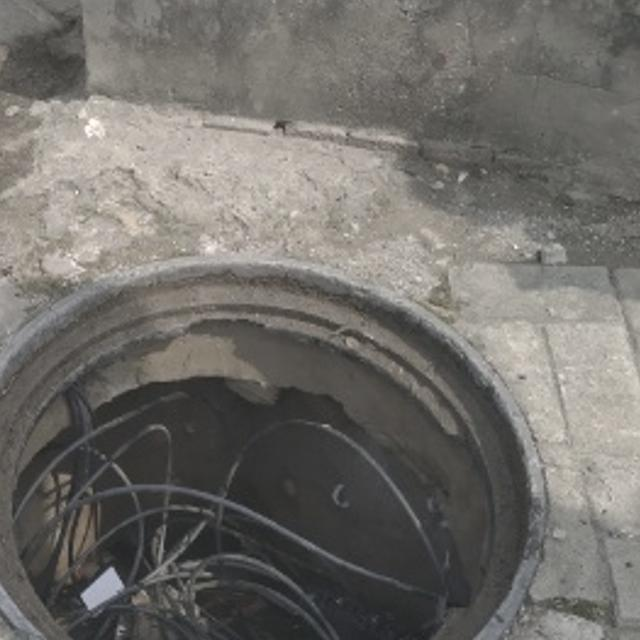lose: (0, 256, 550, 640)
